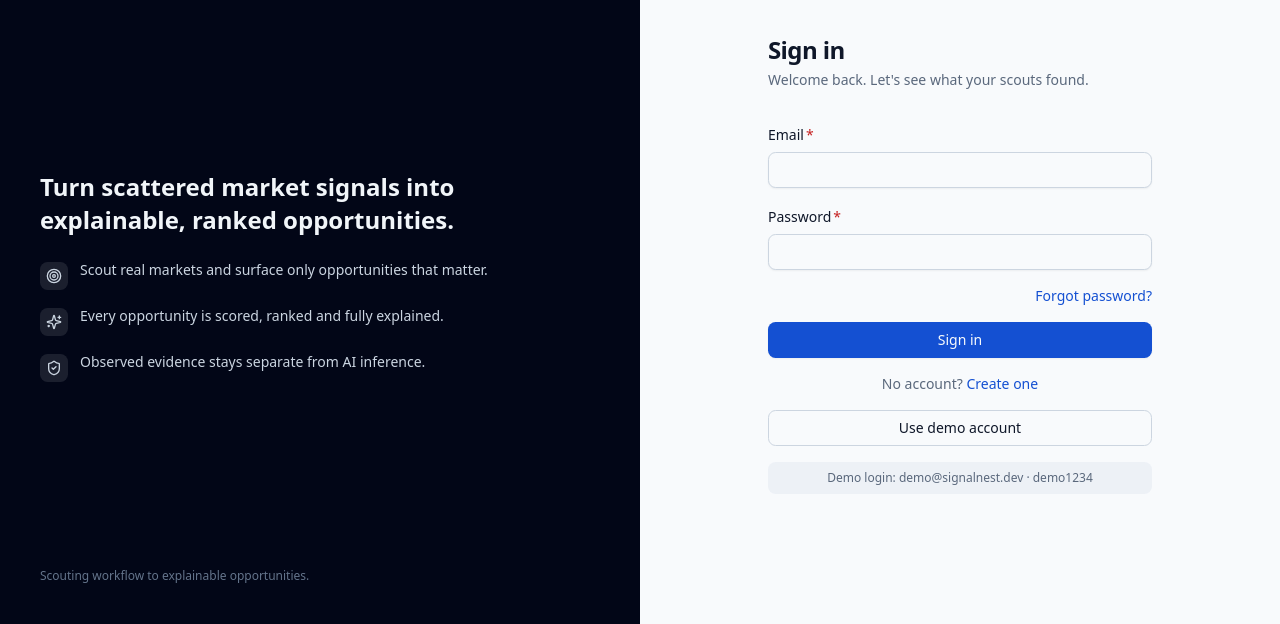
route inventory (plan §5A.3) › /locations sends a signed-out visitor to sign-in, then back after sign-in
expect the heading "Sign in" is shown: met, box left=768, top=33, right=845, bottom=66
expect the heading "Locations" is not shown: met
What coordinates should you click on to do the following:
click the button "Use demo account"
I would click on:
 (960, 428)
Its box is left=768, top=410, right=1152, bottom=446.
(page scrolled)
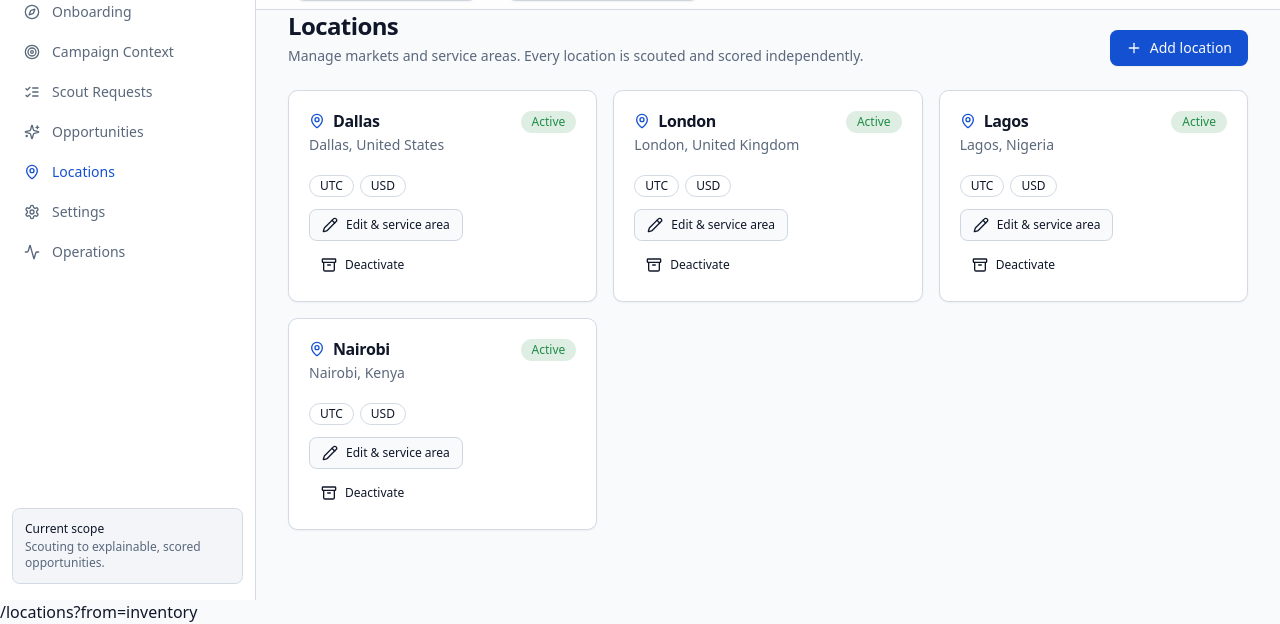
expect the heading "Locations" is shown: met, box left=288, top=9, right=398, bottom=42
